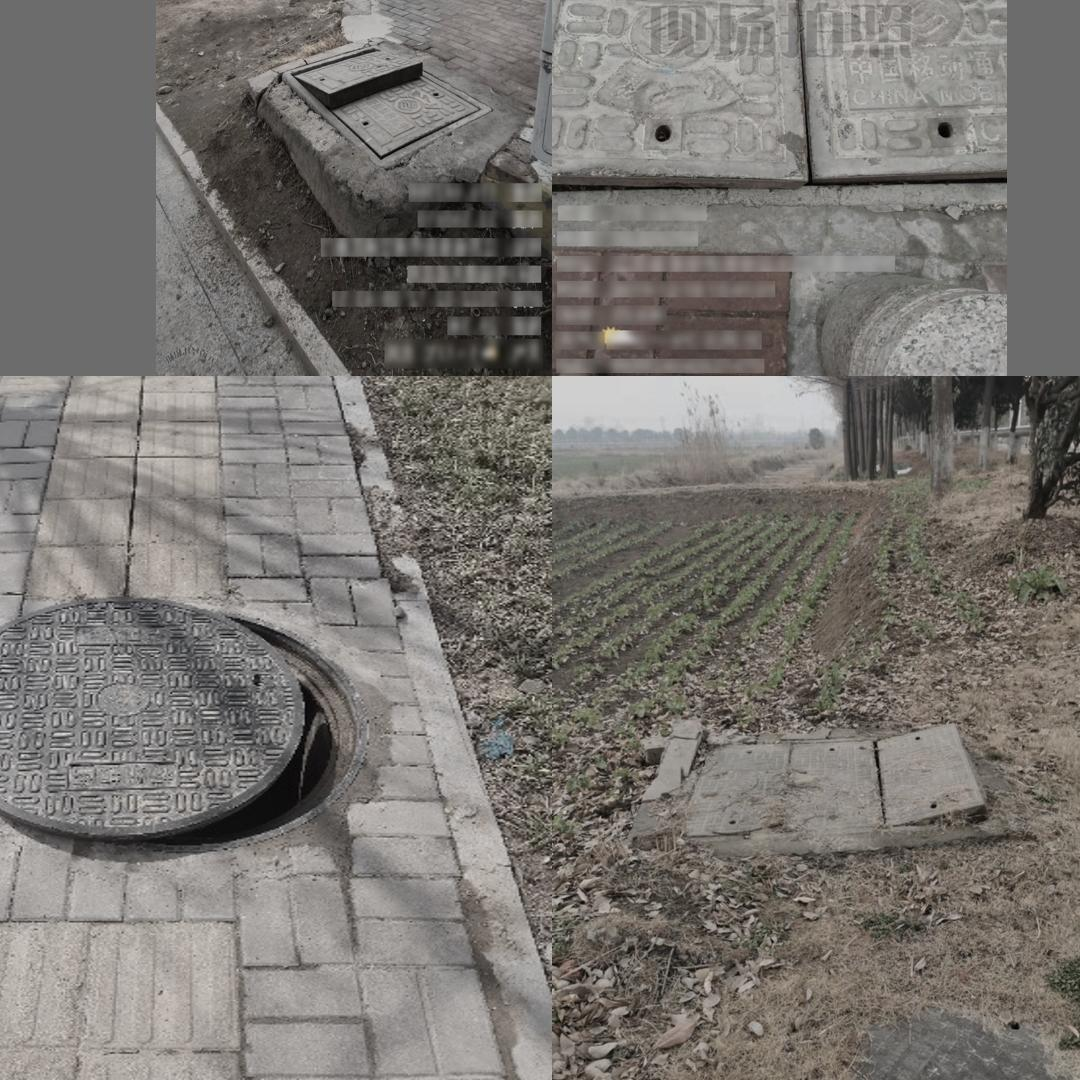uncovered: (0, 595, 378, 842), (552, 0, 1007, 204), (734, 703, 1011, 880), (265, 21, 444, 117)
